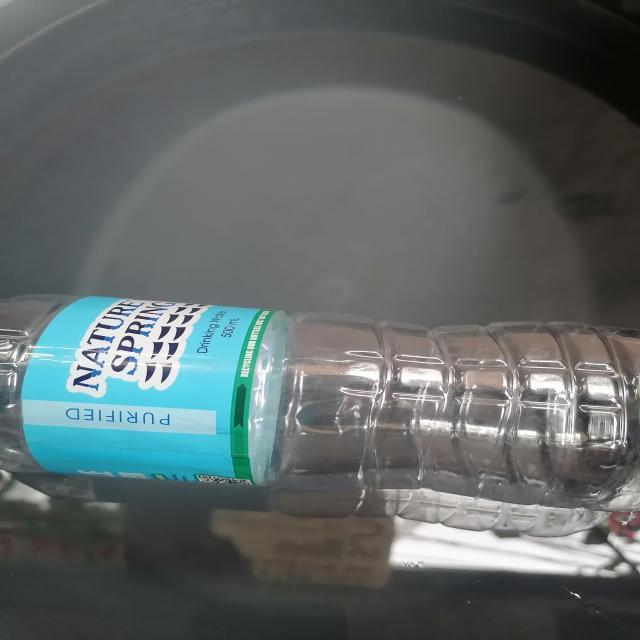Plastic Bottle: (0, 296, 640, 537)
